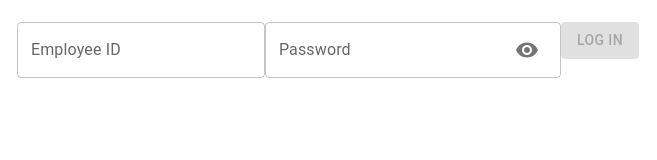
Scenario: LoginForm › Verify that a user entering an incorrect username or password and clicking submit will see an error on the page.
Type "invaliduser" into the field labelled "Employee ID" at coordinates (141, 50), box [17,22,265,78]
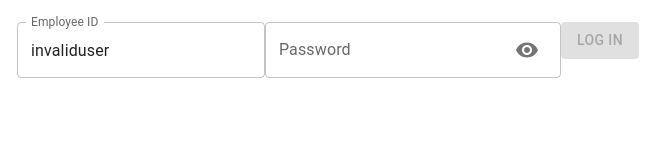
Type "invalidpassword" into the password field labelled "Password" at coordinates (382, 50), box [265,22,499,78]
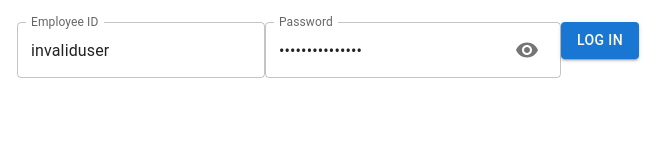
Click the button "Log In" at coordinates (600, 40), box [561,22,639,58]
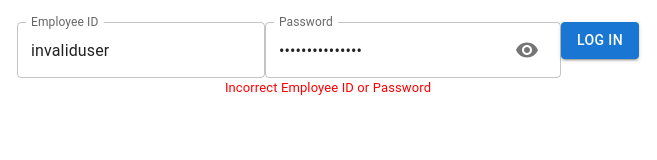
Check: the text "Incorrect Employee ID or Password" is shown, box [225,80,431,95]
